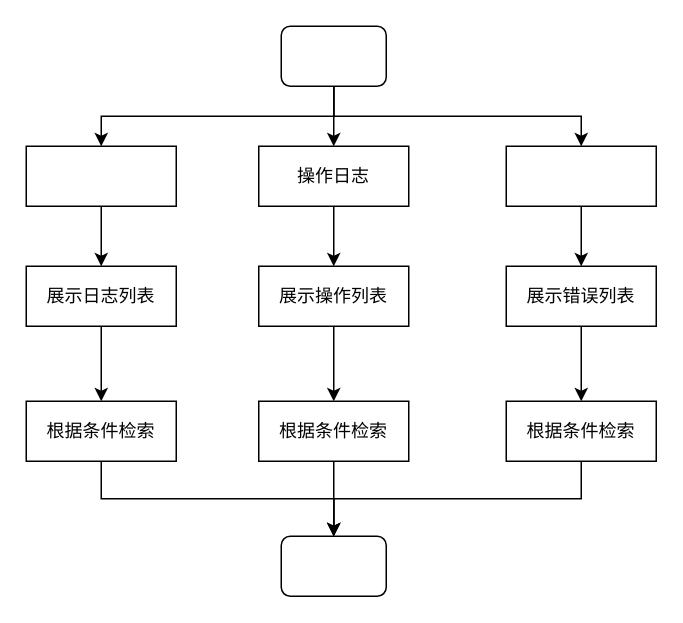
The diagram is 683 pixels wide and 623 high, and some of its shapes have lost their labels. The shapes that lost their labels are listed below. From the top down, each one's centre as x and y in pixels, then its label:
At [333,55]: "开始".
At [100,175]: "访问日志".
At [580,175]: "错误日志".
At [333,565]: "结束".
